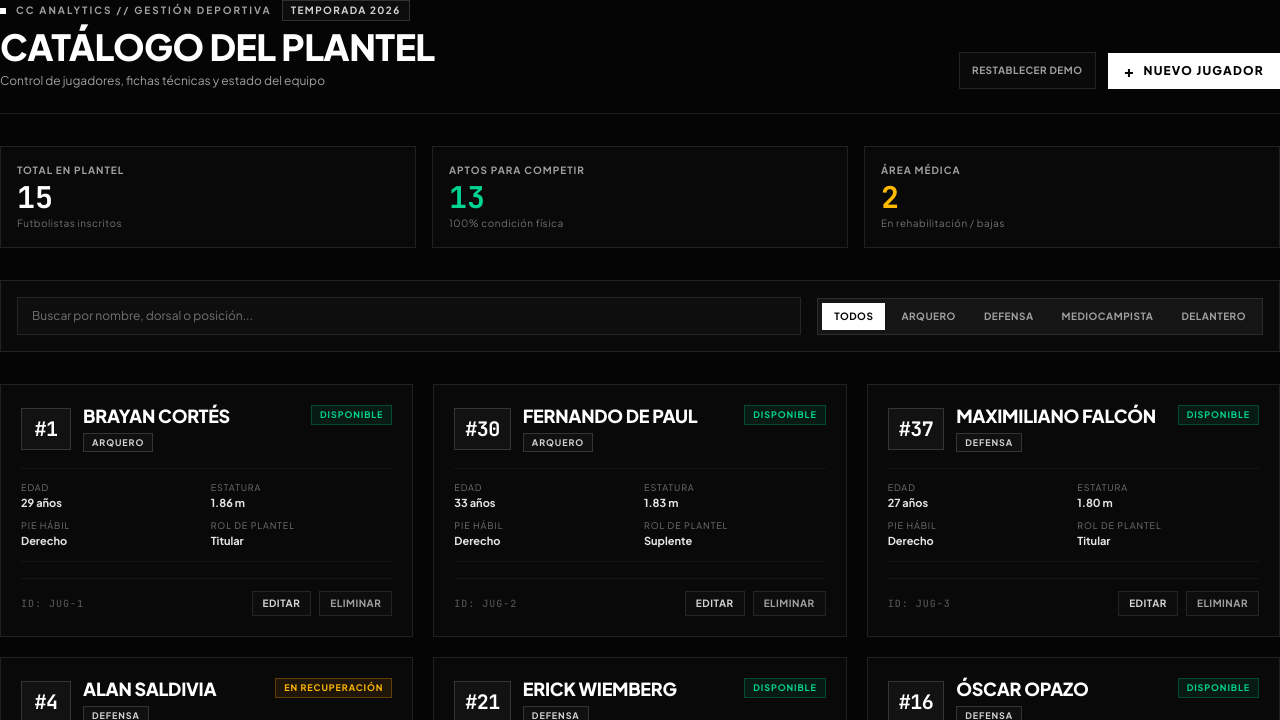
Test: Módulo de Plantel de Jugadores (Pantalla 3 - Integración CRUD) › permite abrir el modal, completar el formulario y registrar un nuevo jugador con feedback inline
abrir modal con boton Nuevo Jugador
Click the button "+ Nuevo Jugador" at (1194, 70), box [1108, 52, 1279, 88]
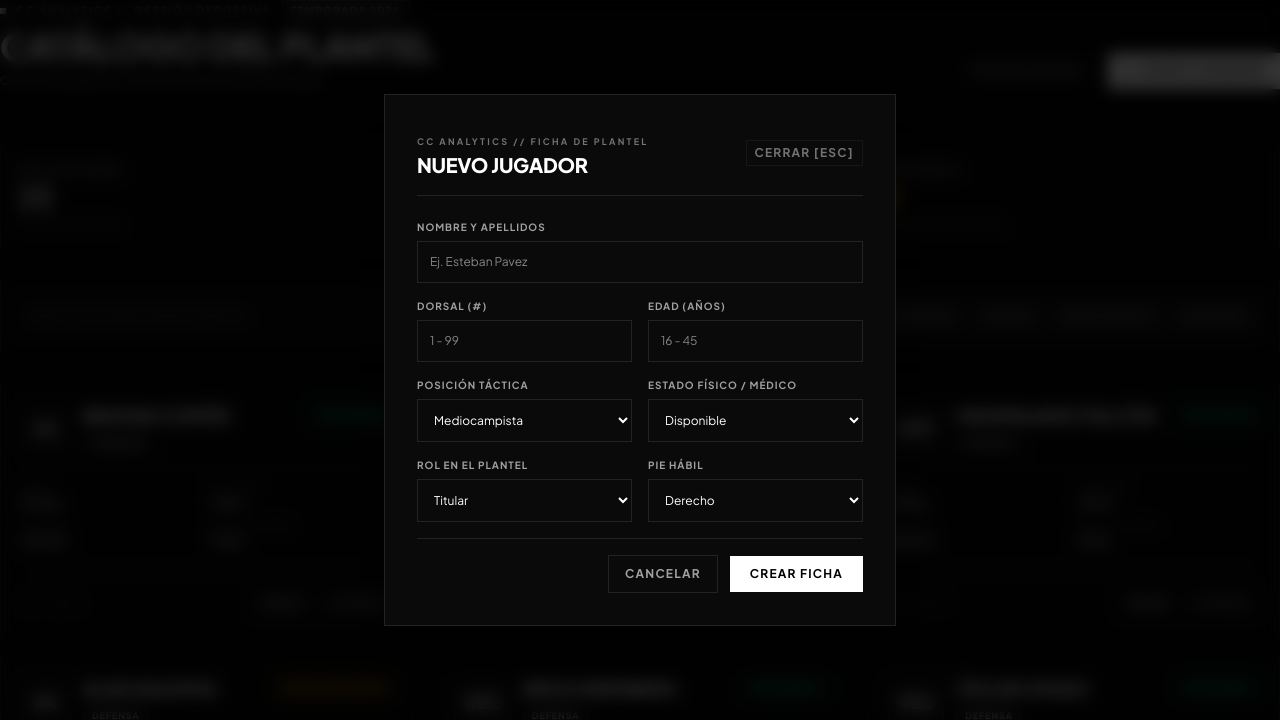
Now the heading "Nuevo Jugador" is shown, box [417, 152, 588, 177]
completar formulario con datos validos
Type "Carlos Carmona" into the field labelled "Nombre y Apellidos" at (640, 262), box [417, 241, 863, 283]
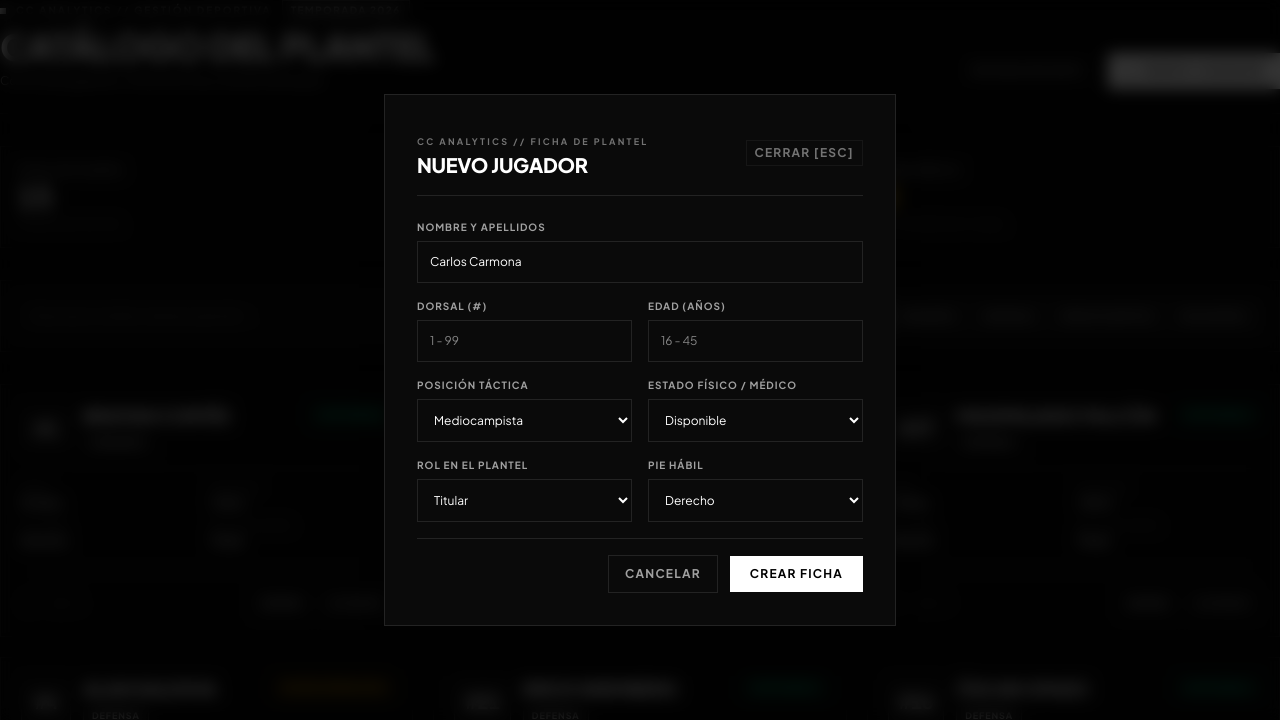
Type "55" into the field labelled "Dorsal (#)" at (524, 341), box [417, 320, 632, 362]
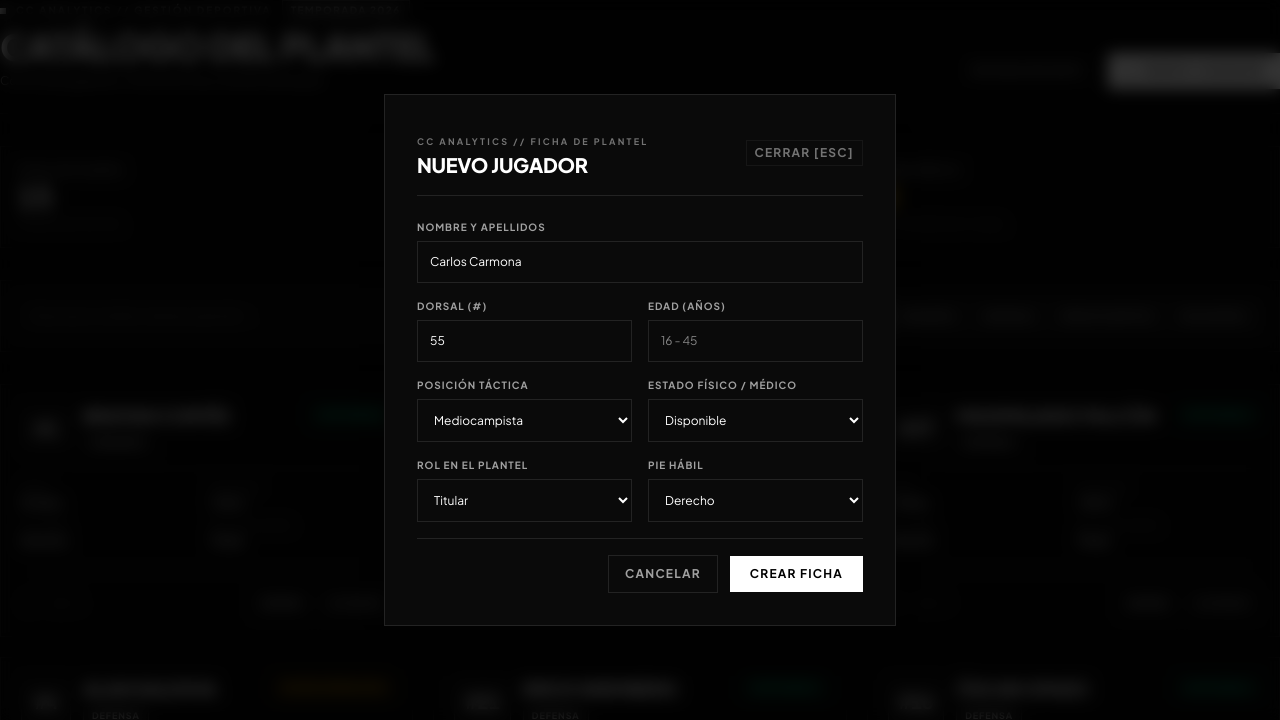
Type "28" into the field labelled "Edad (Años)" at (756, 341), box [648, 320, 863, 362]
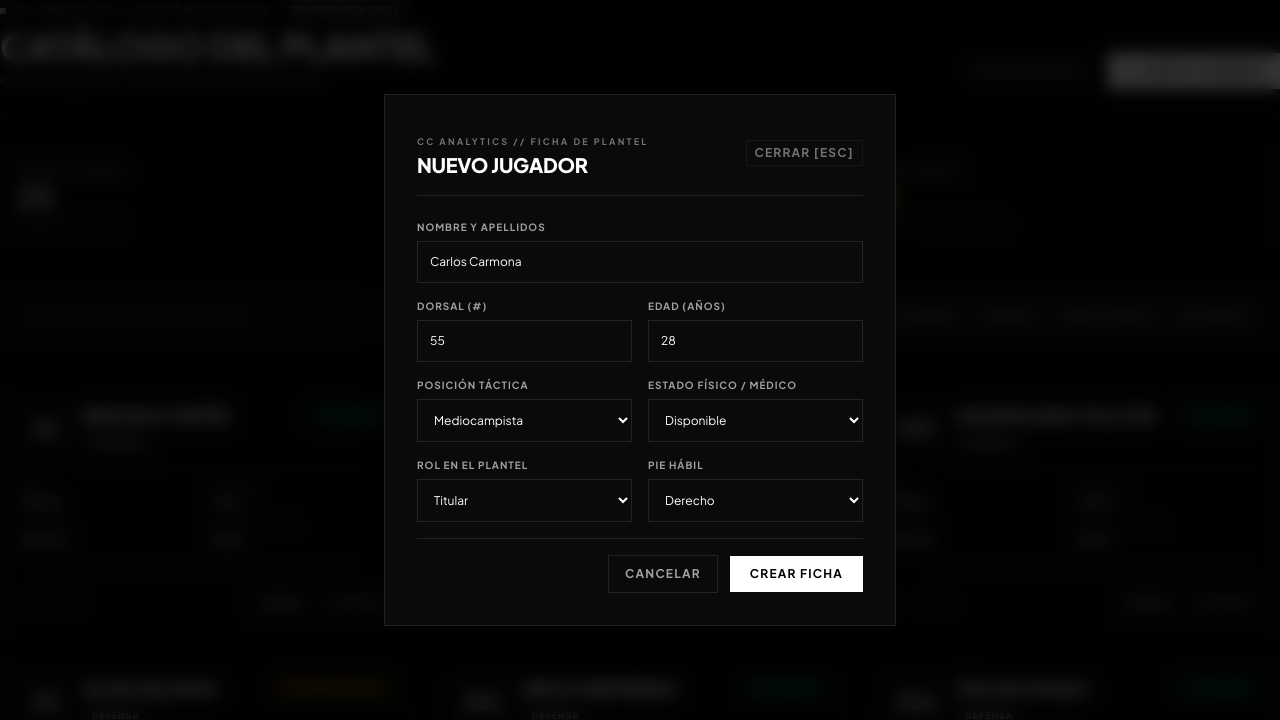
guardar ficha
Click the button "Crear Ficha" at (796, 574), box [730, 556, 863, 592]
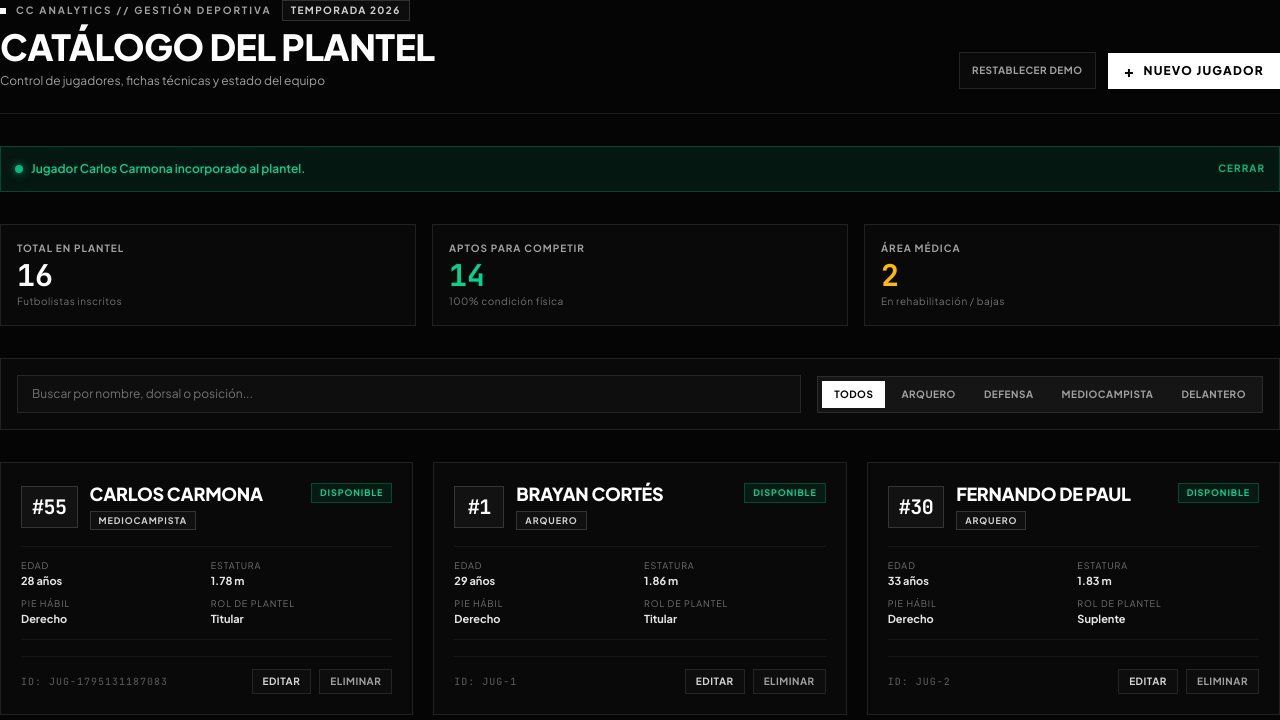
Now the text "Jugador Carlos Carmona incorporado al plantel." is shown, box [31, 161, 305, 177]
